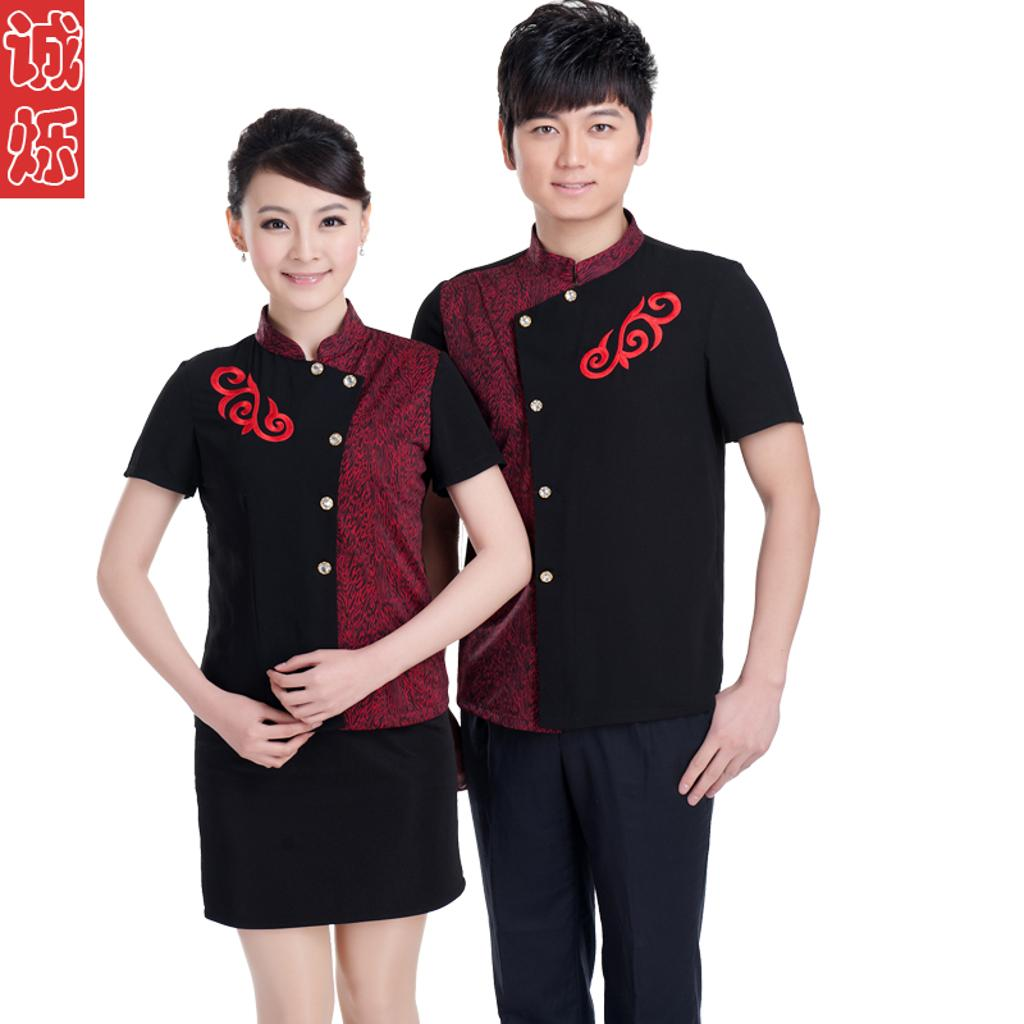face: (514, 60, 638, 216), (238, 158, 356, 306)
